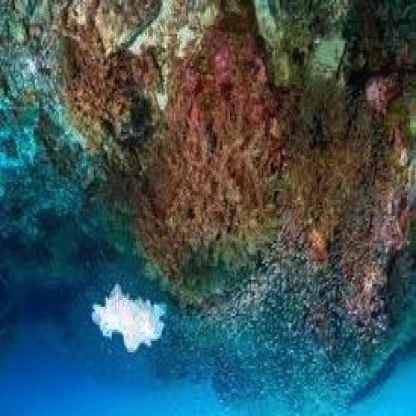pbag: (88, 280, 171, 366)
